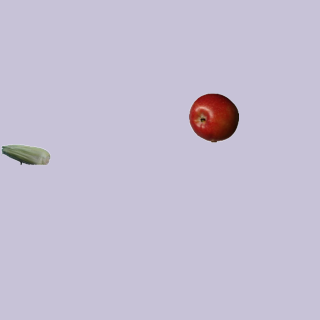Apple Braeburn: (188, 92, 238, 142)
Corn Husk: (0, 129, 50, 179)
